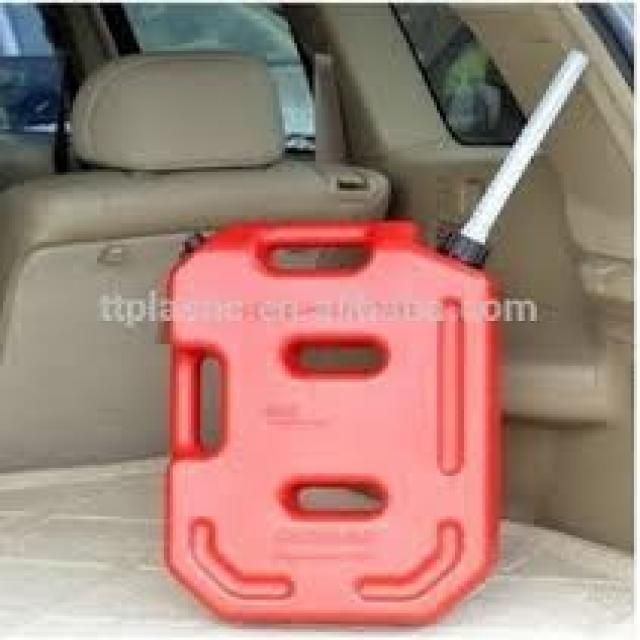gasolin: (158, 51, 585, 629)
